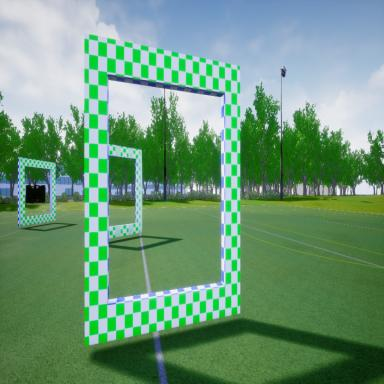gate: (82, 29, 242, 353)
